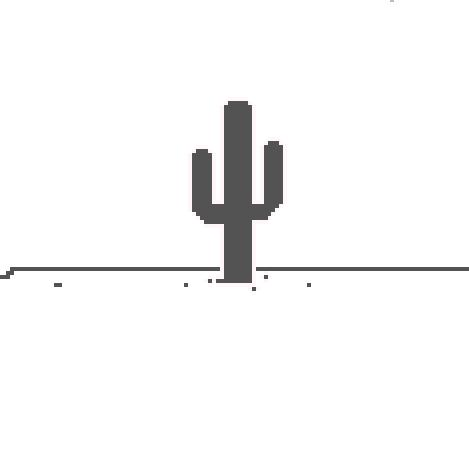cactus: (188, 96, 286, 299)
